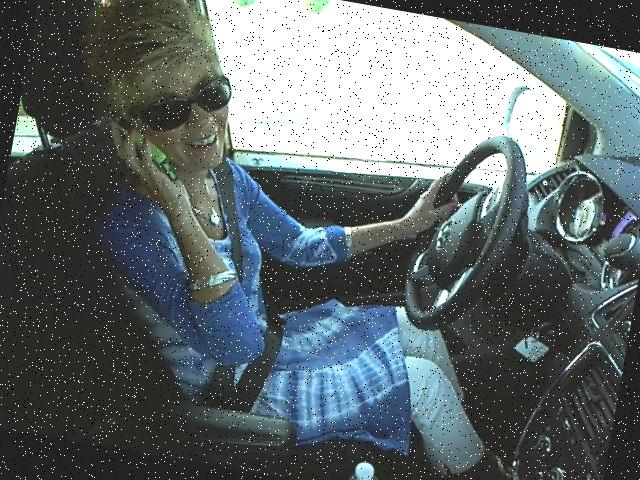c2 - Talking on the phone: (26, 0, 561, 410)
